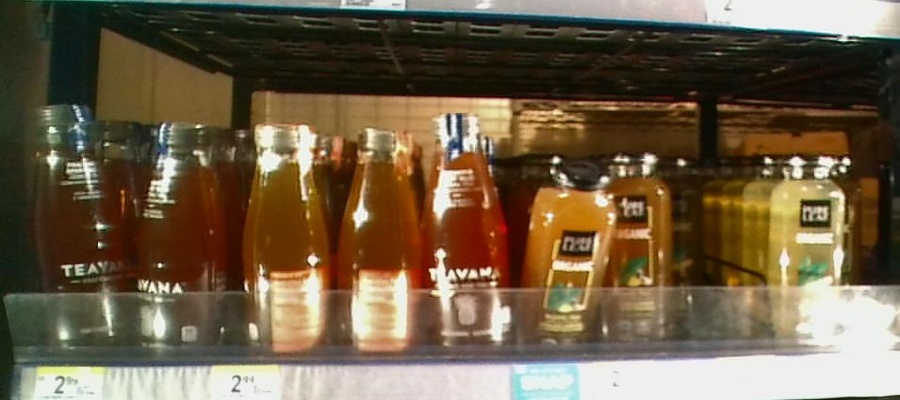bottle: (28, 100, 127, 352), (131, 115, 227, 352), (235, 122, 332, 353), (430, 105, 515, 352), (335, 125, 425, 358), (771, 151, 850, 353), (525, 156, 614, 317), (619, 148, 673, 346)
